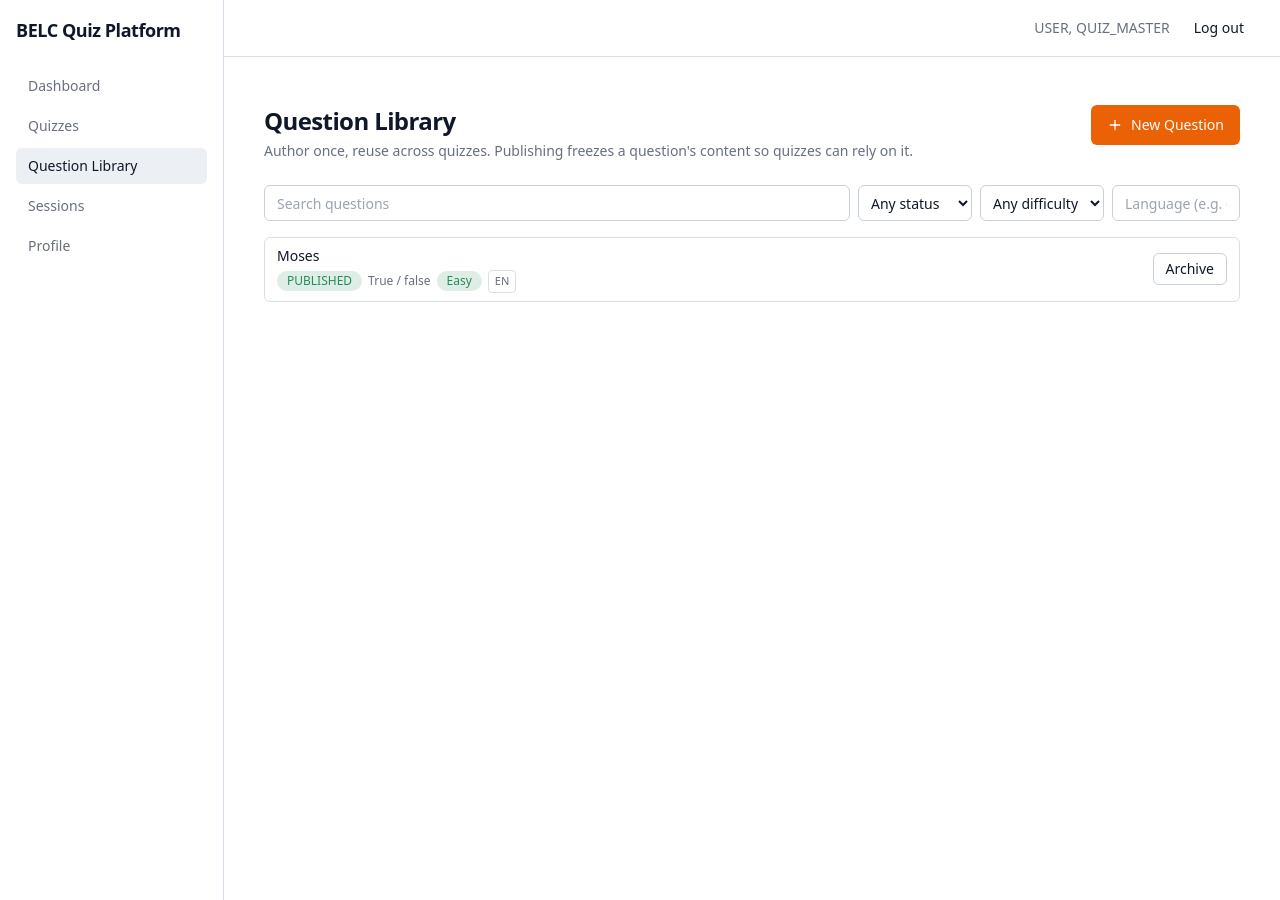
QuestionLibraryPage › distinguishes a filtered miss from an empty library and clears filters
Expected: the link "Moses" is shown, [277,246,320,265]
Type "jonah" into the search field labelled "Search questions" at (557, 203), box [264,185,850,221]
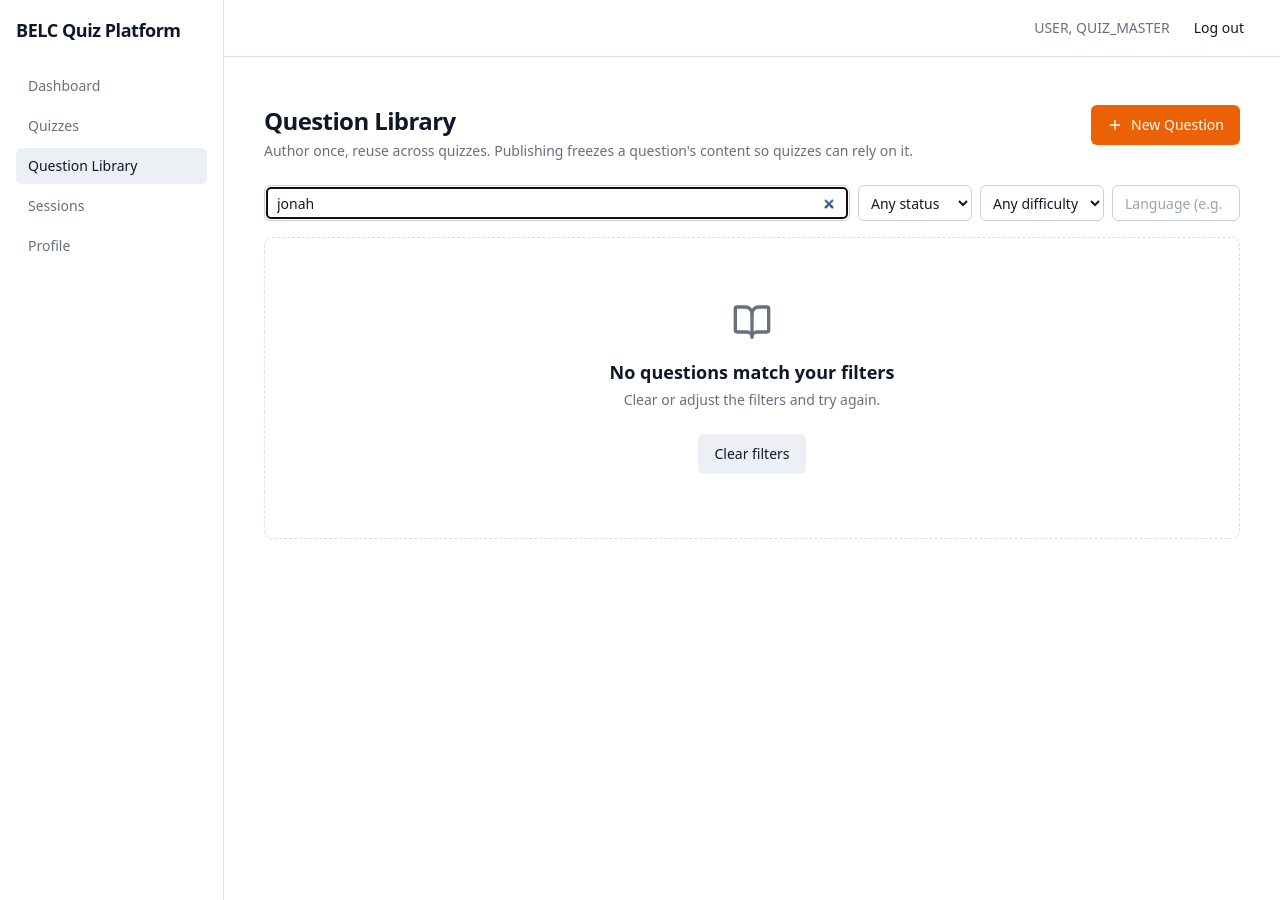
Now the heading "No questions match your filters" is shown, box [610,358,894,386]
Click the button "Clear filters" at (752, 454), box [698,434,806,474]
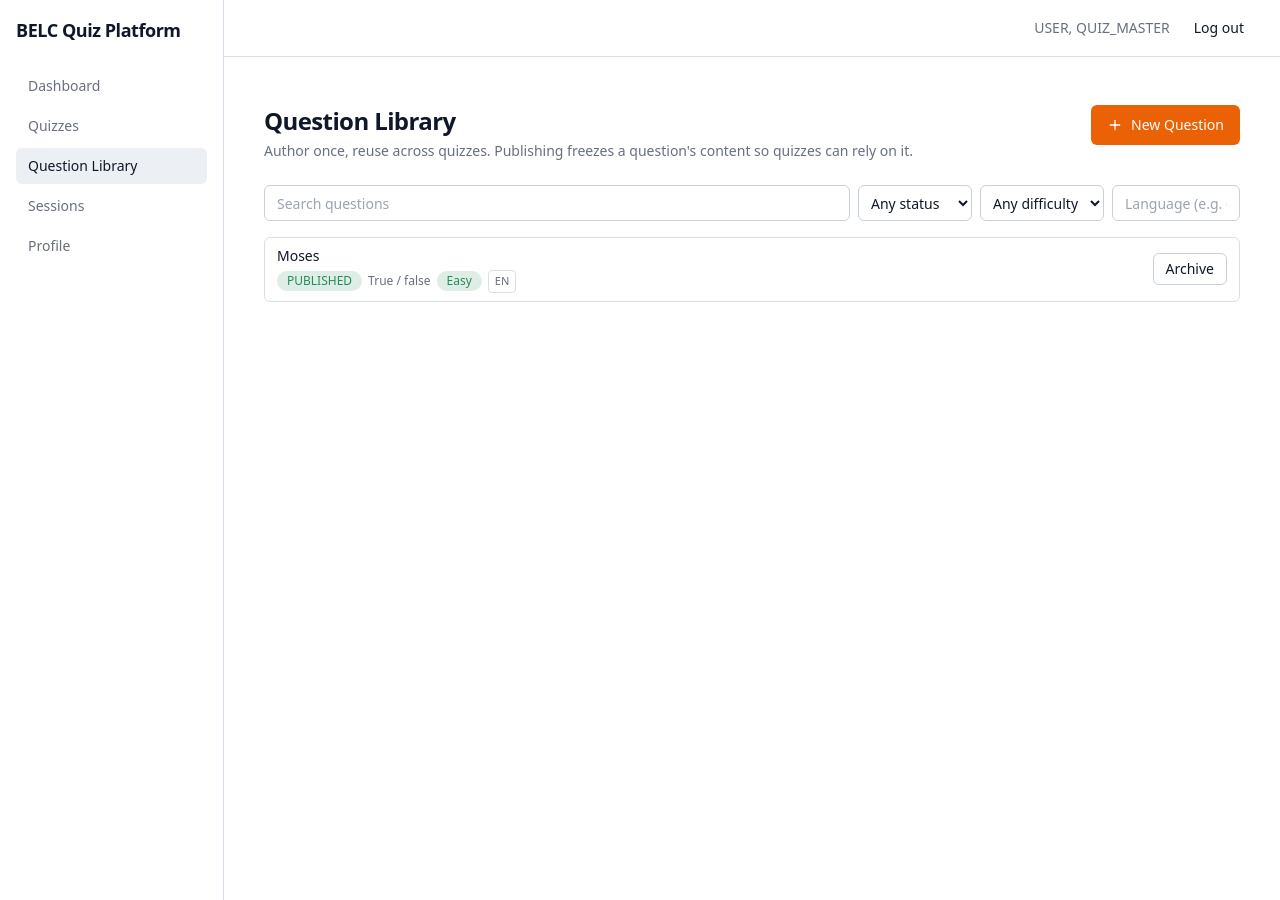
Now the link "Moses" is shown, box [277,246,320,265]
